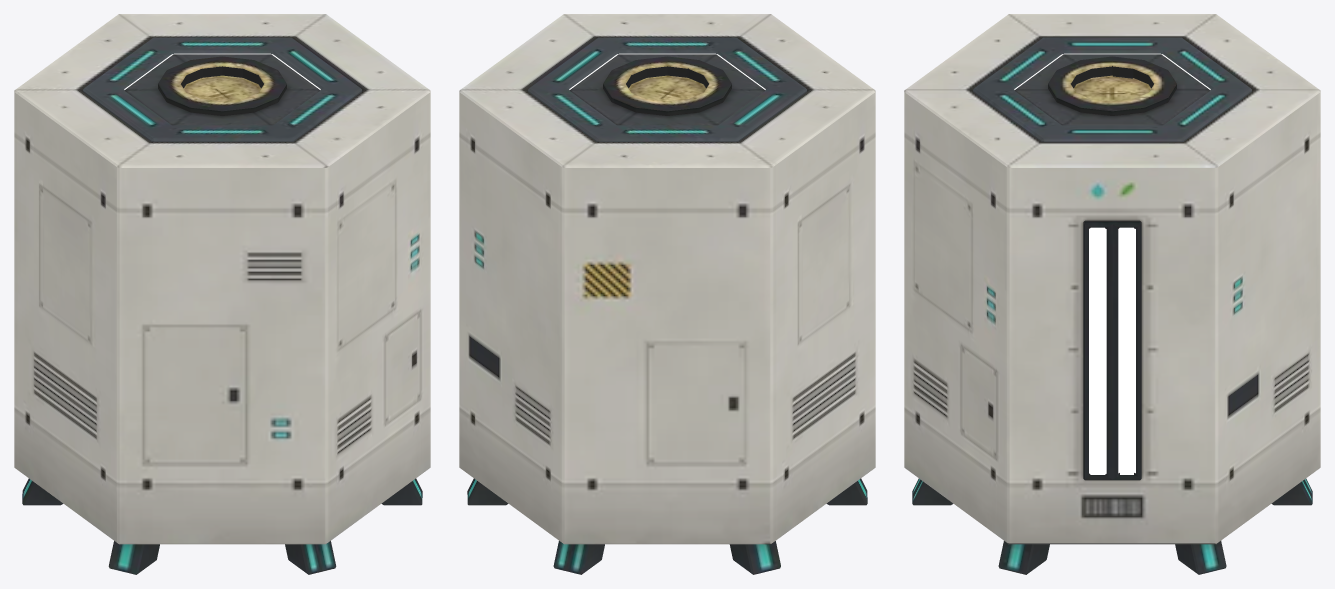
File: pod.glb
3 views of the same model, side by side, from view 1: azimuth 30°, elevation 25°; view 2: azimuth 150°, elevation 25°; view 3: azimuth 270°, elevation 25° (orthographic).
Visible parts, largest first — view 1: PodBase, hoverLight, netCup; view 2: PodBase, hoverLight, netCup; view 3: PodBase, hoverLight, netCup.
Boxes of the visible parts, x1,y1,x2,y2 form: PodBase: [14, 14, 430, 574]; hoverLight: [83, 37, 361, 141]; netCup: [158, 56, 286, 115]; PodBase: [459, 14, 875, 574]; hoverLight: [528, 37, 806, 141]; netCup: [603, 56, 731, 115]; PodBase: [904, 14, 1320, 574]; hoverLight: [973, 37, 1251, 141]; netCup: [1048, 56, 1176, 115].
Size of the model in its own units: 0.5955 by 0.7431 by 0.6754.
Materials: 4 (2 with a texture image).
